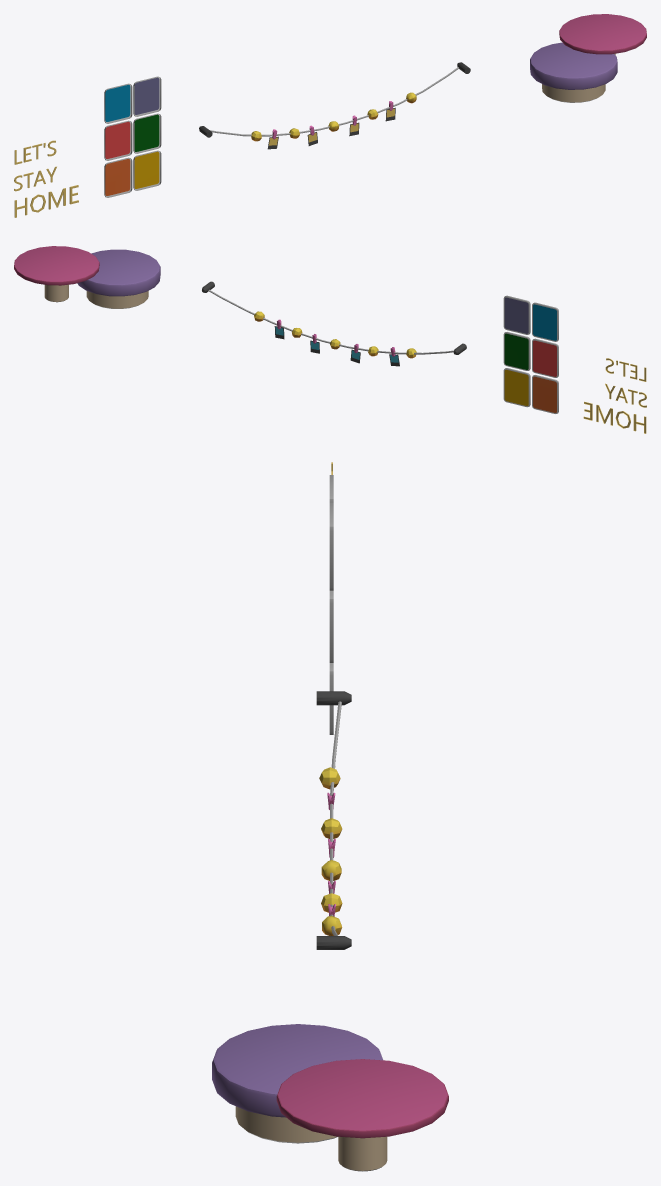
File: lets stay home.fbx
The picture shows the model from 3 angles, top to bottom: view 1: azimuth 30°, elevation 25°; view 2: azimuth 150°, elevation 25°; view 3: azimuth 270°, elevation 25°; orthographic projection. The views are drawn at different scales.
Visible parts, largest first — view 1: siting table, Colours frame, light lead, lets stay home; view 2: siting table, Colours frame, light lead, lets stay home; view 3: siting table, light lead, Colours frame.
Part boxes in pixels (x1,y1,x2,y2): siting table: (530, 14, 646, 102); Colours frame: (104, 76, 161, 197); light lead: (199, 62, 470, 149); lets stay home: (14, 140, 78, 217); siting table: (14, 246, 160, 308); Colours frame: (503, 295, 558, 413); light lead: (202, 281, 466, 366); lets stay home: (583, 358, 646, 433); siting table: (212, 1024, 448, 1171); light lead: (316, 691, 351, 949); Colours frame: (329, 475, 333, 734).
Size of the model in its own units: 946 by 154 by 156.
